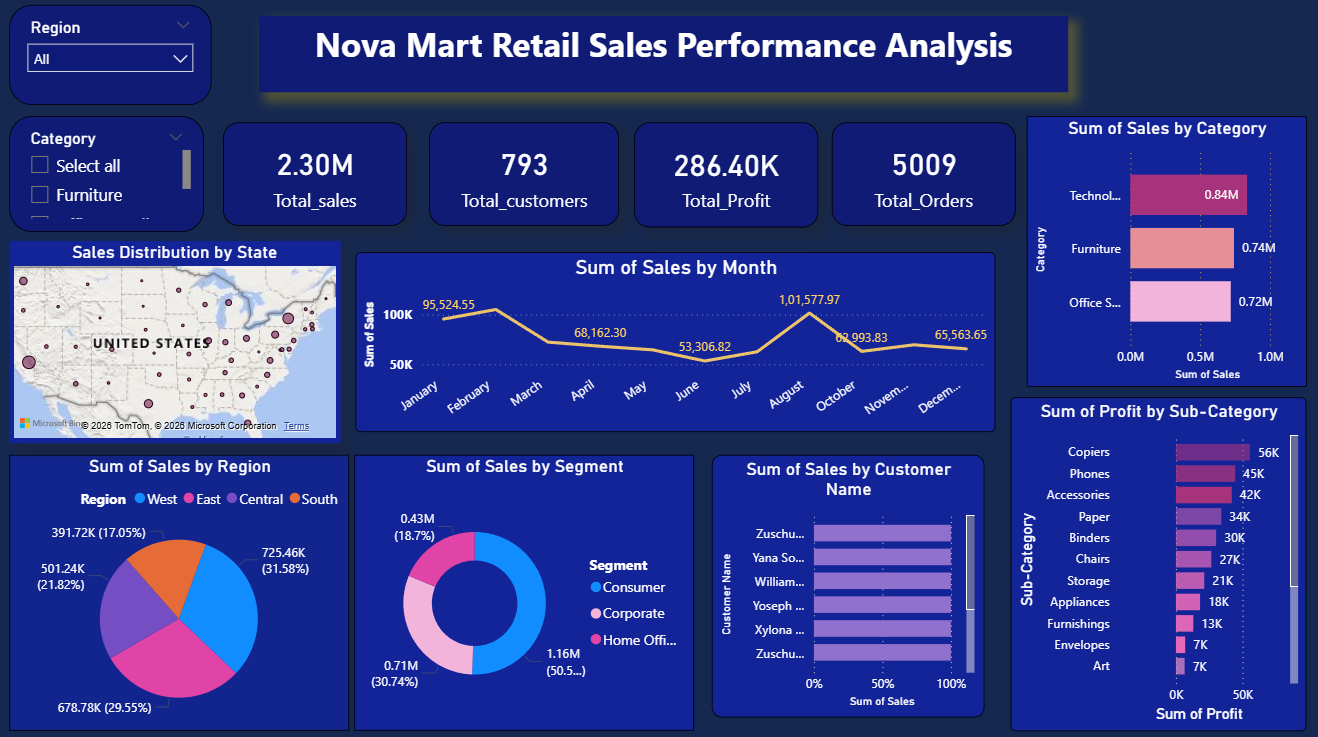

Layout of this report page (visuals, bound fields, positions):
{"tool":"powerbi","page":{"name":"Page 1","canvas":[1280,720],"ordinal":0},"visuals":[{"type":"card","fields":{"Values":["Cleaned_dataset.Total_customers"]},"box":[416.2,121.9,183.4,100.1],"z":0},{"type":"card","fields":{"Values":["Cleaned_dataset.Total_sales"]},"box":[217.2,121.9,177.3,100.1],"z":1000},{"type":"card","fields":{"Values":["Cleaned_dataset.Total_Profit"]},"box":[614.1,121.9,177.3,101.3],"z":2000},{"type":"card","fields":{"Values":["Cleaned_dataset.Total_Orders"]},"box":[804.7,121.9,177.3,100.1],"z":3000},{"type":"clusteredBarChart","fields":{"Y":["Sum(Cleaned_dataset.Sales)"],"Category":["Cleaned_dataset.Category"]},"box":[992.9,115.8,270.2,261.8],"z":4000},{"type":"pieChart","fields":{"Category":["Cleaned_dataset.Region"],"Y":["Sum(Cleaned_dataset.Sales)"]},"box":[10.9,442.8,328.2,266.6],"z":5000},{"type":"hundredPercentStackedBarChart","fields":{"Category":["Cleaned_dataset.Customer Name"],"Y":["Sum(Cleaned_dataset.Sales)"]},"box":[688.9,442.8,263,253.4],"z":6000},{"type":"barChart","fields":{"Category":["Cleaned_dataset.Sub-Category"],"Y":["Sum(Cleaned_dataset.Profit)"]},"box":[977.2,387.3,285.9,322.1],"z":7000},{"type":"lineChart","fields":{"Y":["Sum(Cleaned_dataset.Sales)"],"Category":["Cleaned_dataset.Order Date.Variation.Date Hierarchy.Month"]},"box":[345,247.3,617.7,173.7],"z":8000},{"type":"donutChart","fields":{"Y":["Sum(Cleaned_dataset.Sales)"],"Category":["Cleaned_dataset.Segment"]},"box":[343.8,442.8,328.2,266.6],"z":9000},{"type":"slicer","fields":{"Values":["Cleaned_dataset.Region"]},"box":[10.9,8.4,195.4,96.5],"z":10000},{"type":"slicer","fields":{"Values":["Cleaned_dataset.Category"]},"box":[10.9,115.8,188.2,112.2],"z":11000},{"type":"textbox","box":[252.1,19.3,780.6,73.6],"z":12000},{"type":"map","title":"Sales Distribution by State","fields":{"Size":["Sum(Cleaned_dataset.Sales)"],"Category":["Cleaned_dataset.State"]},"box":[10.9,236.5,319.7,195.4],"z":13000}]}

Visuals, with their boxes in screenshot pixels (x1, y1, x2, y2), scaled from the page's 1280x720 canvas onto the 1318x737 screenshot:
card - Cleaned_dataset.Total_customers: x1=429, y1=125, x2=617, y2=227
card - Cleaned_dataset.Total_sales: x1=224, y1=125, x2=406, y2=227
card - Cleaned_dataset.Total_Profit: x1=632, y1=125, x2=815, y2=228
card - Cleaned_dataset.Total_Orders: x1=829, y1=125, x2=1011, y2=227
clusteredBarChart - Sum(Cleaned_dataset.Sales) x Cleaned_dataset.Category: x1=1022, y1=119, x2=1301, y2=387
pieChart - Cleaned_dataset.Region x Sum(Cleaned_dataset.Sales): x1=11, y1=453, x2=349, y2=726
hundredPercentStackedBarChart - Cleaned_dataset.Customer Name x Sum(Cleaned_dataset.Sales): x1=709, y1=453, x2=980, y2=713
barChart - Cleaned_dataset.Sub-Category x Sum(Cleaned_dataset.Profit): x1=1006, y1=396, x2=1301, y2=726
lineChart - Sum(Cleaned_dataset.Sales) x Cleaned_dataset.Order Date.Variation.Date Hierarchy.Month: x1=355, y1=253, x2=991, y2=431
donutChart - Sum(Cleaned_dataset.Sales) x Cleaned_dataset.Segment: x1=354, y1=453, x2=692, y2=726
slicer - Cleaned_dataset.Region: x1=11, y1=9, x2=212, y2=107
slicer - Cleaned_dataset.Category: x1=11, y1=119, x2=205, y2=233
textbox: x1=260, y1=20, x2=1063, y2=95
"Sales Distribution by State" map: x1=11, y1=242, x2=340, y2=442
